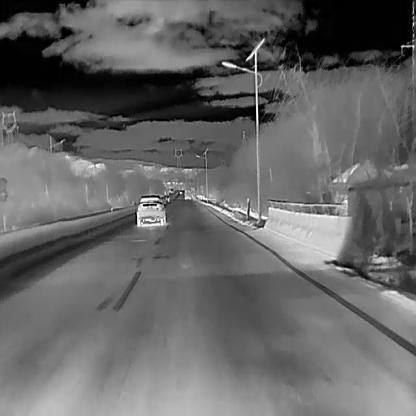car: (136, 193, 166, 228), (183, 189, 192, 201), (169, 187, 174, 193), (178, 189, 183, 194)
